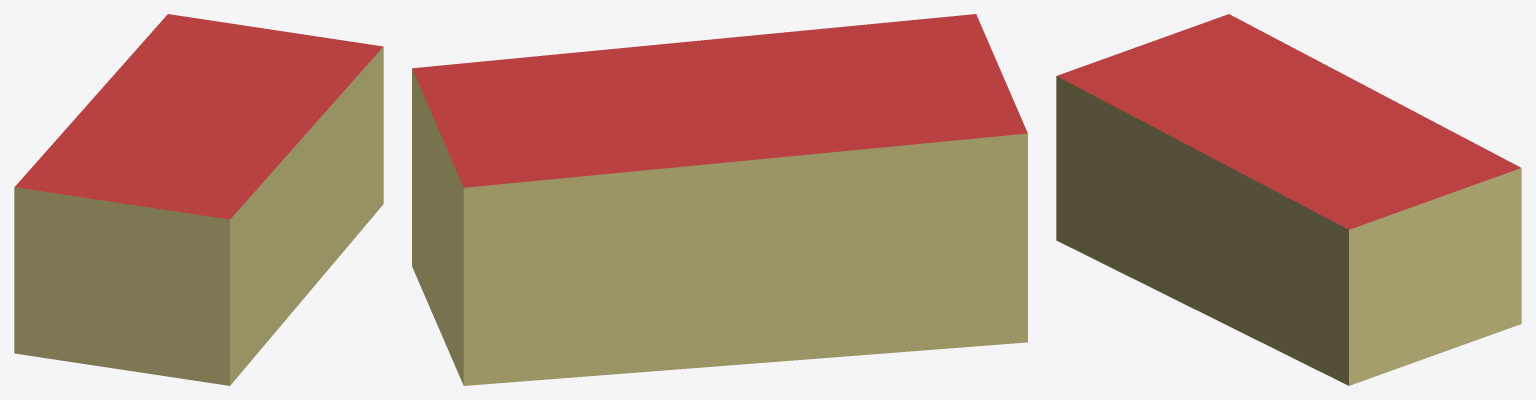
3 views of the same model, side by side, from view 1: azimuth 30°, elevation 25°; view 2: azimuth 150°, elevation 25°; view 3: azimuth 270°, elevation 25° (orthographic). The views are drawn at different scales.
Parts seen in each view (by area): view 1: group_4, group_3; view 2: group_4, group_3; view 3: group_4, group_3.
Boxes of the visible parts, x1=… form: group_4: x1=14, y1=47, x2=383, y2=385; group_3: x1=14, y1=14, x2=383, y2=219; group_4: x1=412, y1=69, x2=1027, y2=385; group_3: x1=412, y1=14, x2=1027, y2=187; group_4: x1=1056, y1=76, x2=1521, y2=385; group_3: x1=1057, y1=14, x2=1520, y2=229.
Size of the model in its own units: 15.99 by 15.15 by 5.92.
